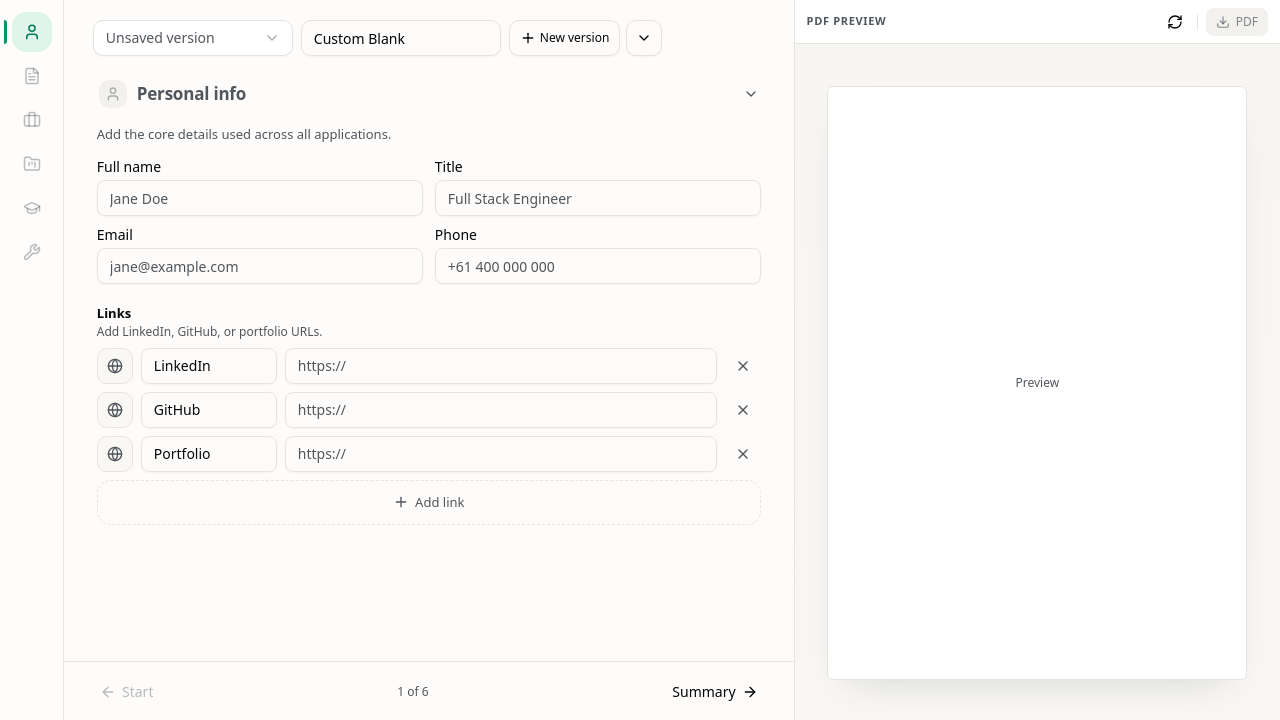
Test: Resume page › focus mode › moves between sections from the pager and ends on the download step
Expected: the heading "Personal info" is shown, [137,82,246,105]
Expected: the text with test id "resume-pager-position" reads "1 of 6", [397,683,429,700]
Click the button with test id "resume-pager-next": (715, 692) [660,674,770,710]
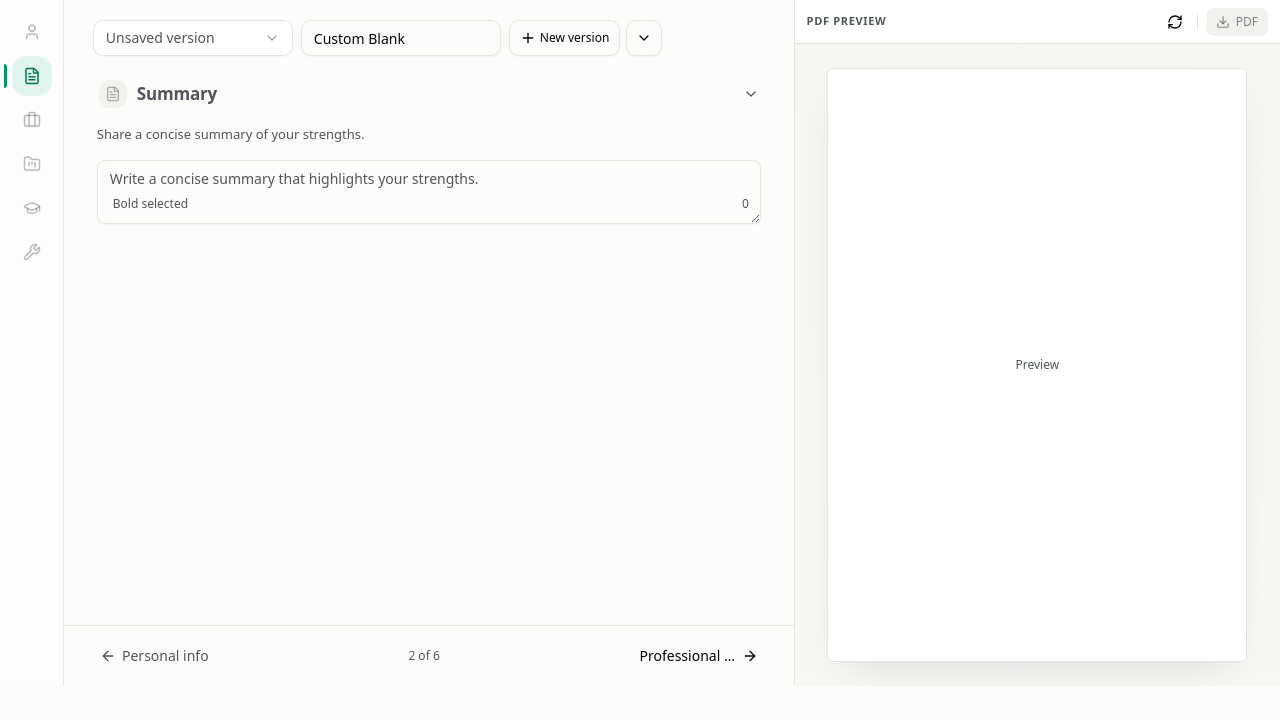
Now the text with test id "resume-pager-position" reads "2 of 6", box [408,647,440,664]
Now the button with test id "resume-pager-prev" is enabled, box [88,638,221,674]
Click the button with test id "resume-pager-next": (699, 656) [628,638,770,674]
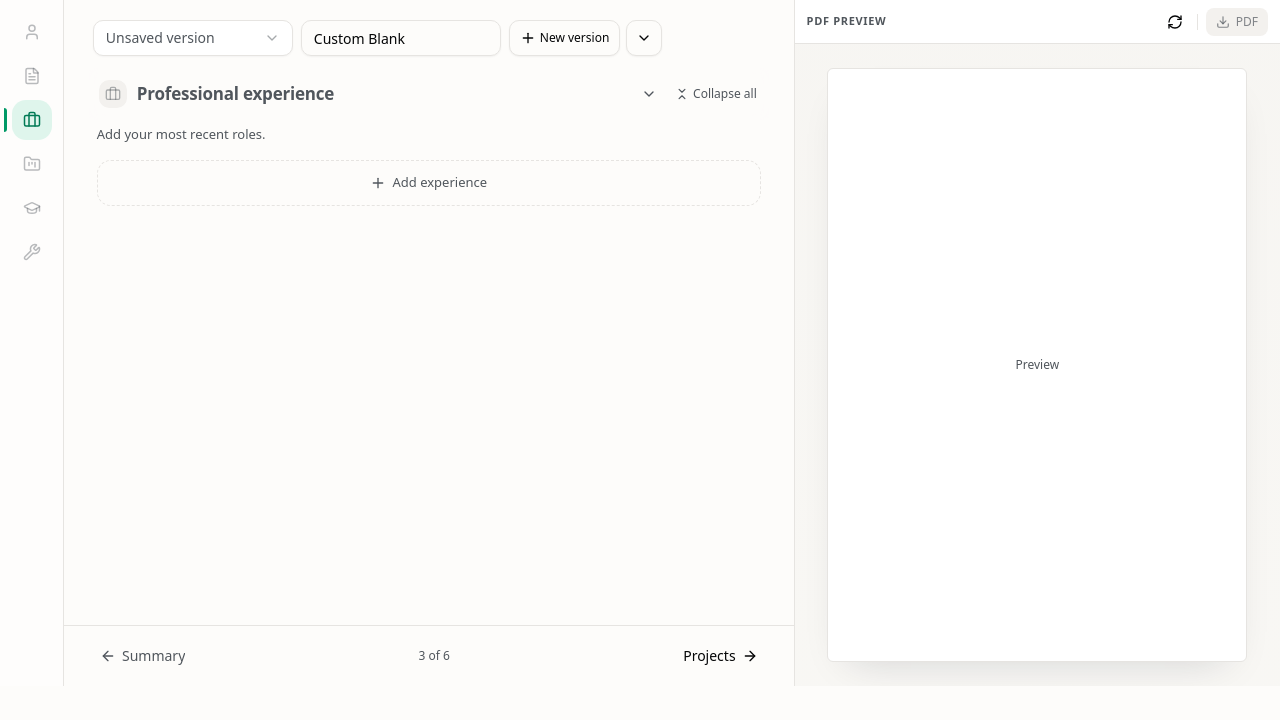
Click the button with test id "resume-pager-next": (720, 656) [671,638,770,674]
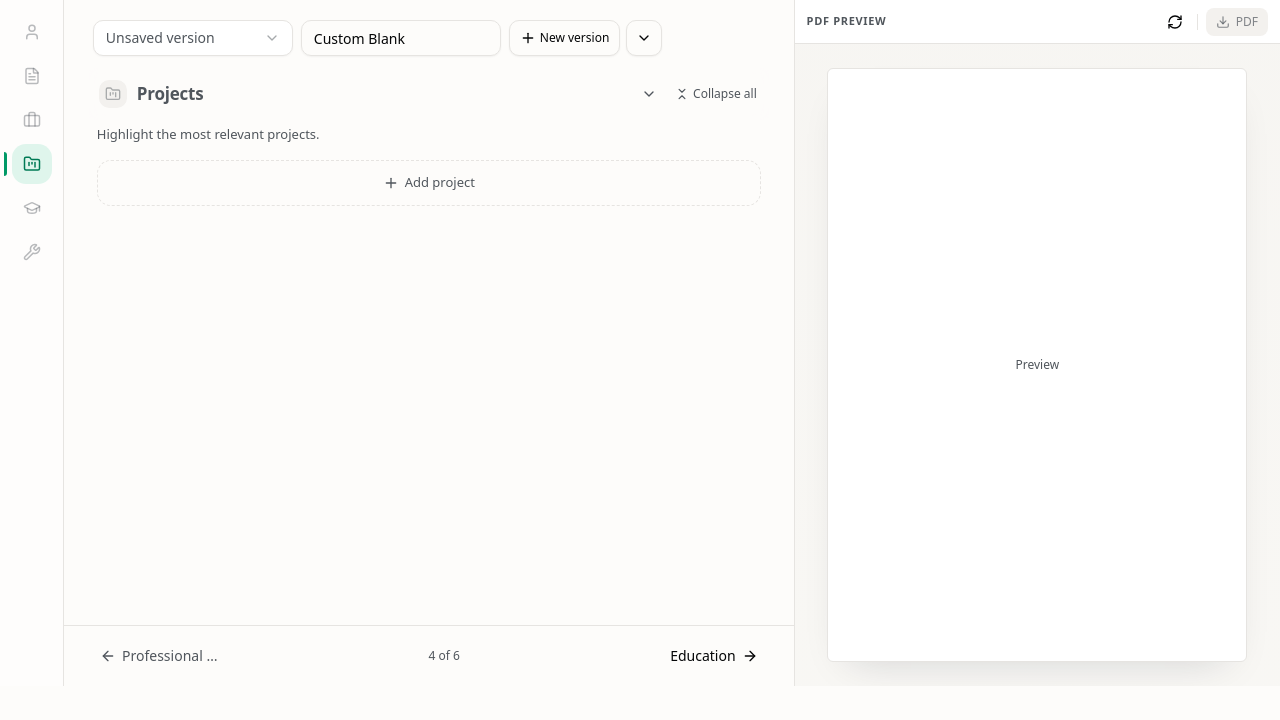
Click the button with test id "resume-pager-next": (714, 656) [658,638,770,674]
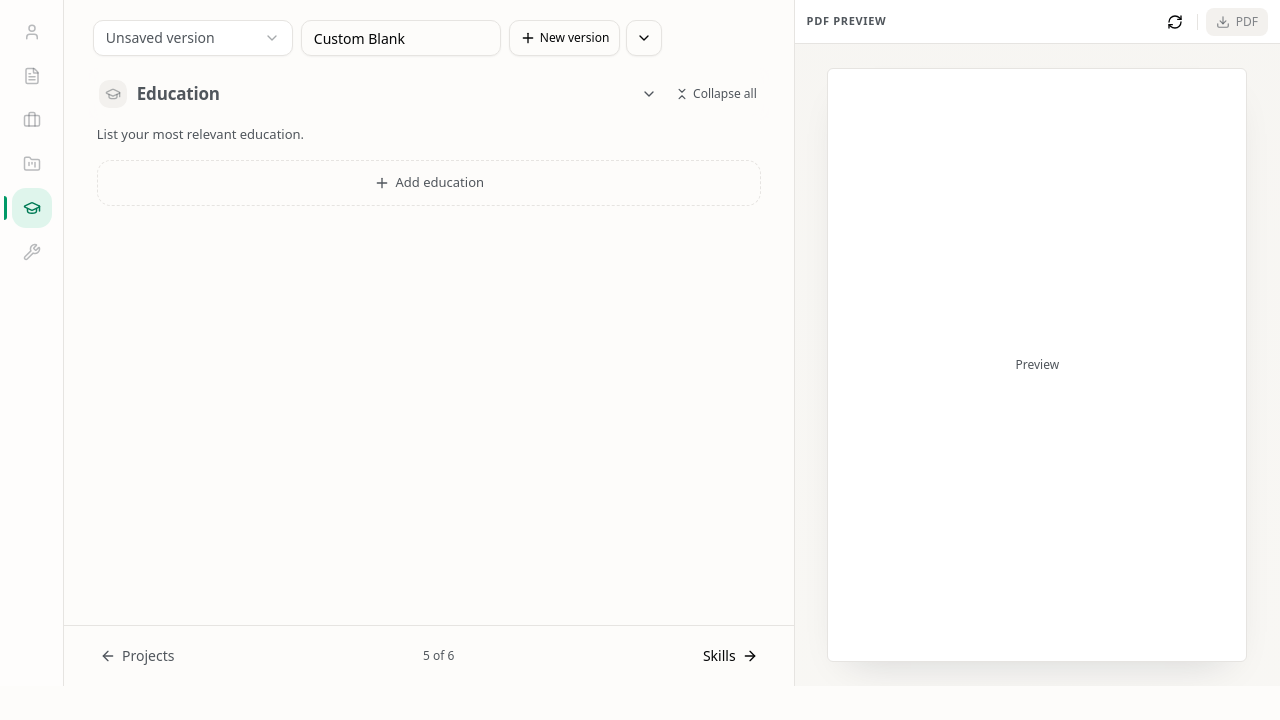
Click the button with test id "resume-pager-next": (730, 656) [691,638,770,674]
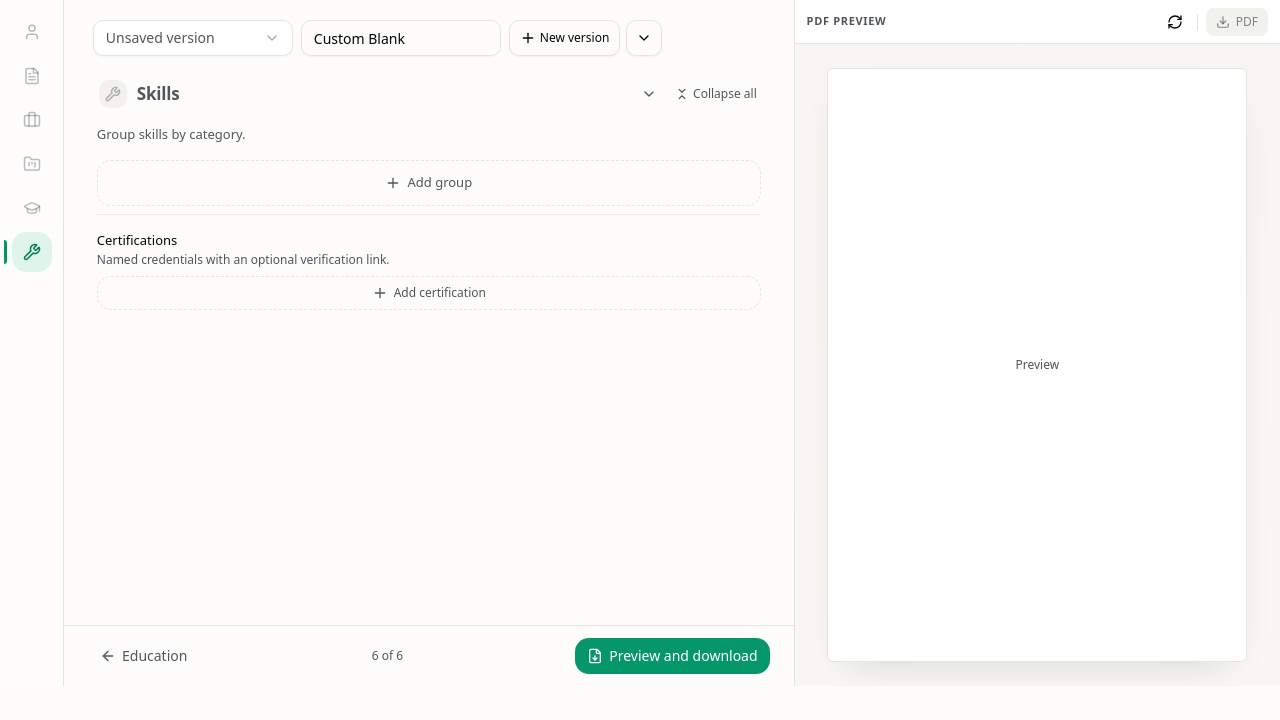
Now the text with test id "resume-pager-position" reads "6 of 6", box [372,647,403,664]
Now the button with test id "resume-pager-finish" is shown, box [575,638,770,674]
